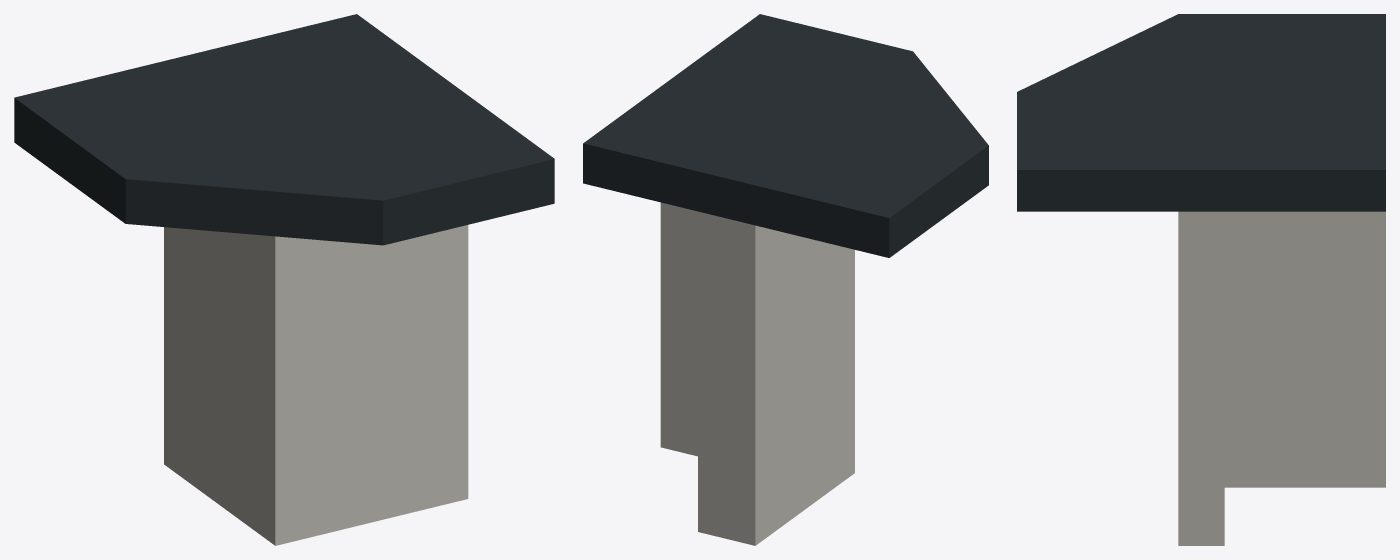
The model's file is bar3.fbx.
3 renders of one model, left to right at view 1: azimuth 30°, elevation 25°; view 2: azimuth 150°, elevation 25°; view 3: azimuth 270°, elevation 25°, orthographic. The views are drawn at different scales.
Visible parts, largest first — view 1: Cube; view 2: Cube; view 3: Cube.
Boxes of the visible parts, x1,y1,x2,y2 form: Cube: (14, 14, 554, 545); Cube: (583, 14, 988, 545); Cube: (1017, 14, 1385, 545).
Bounding box in the file's own units: 4 × 4.5 × 4.
